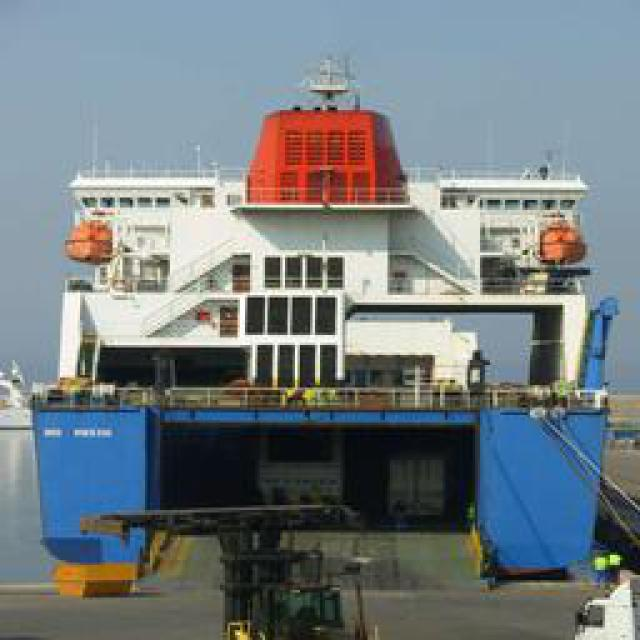Ship: (37, 60, 607, 598)
